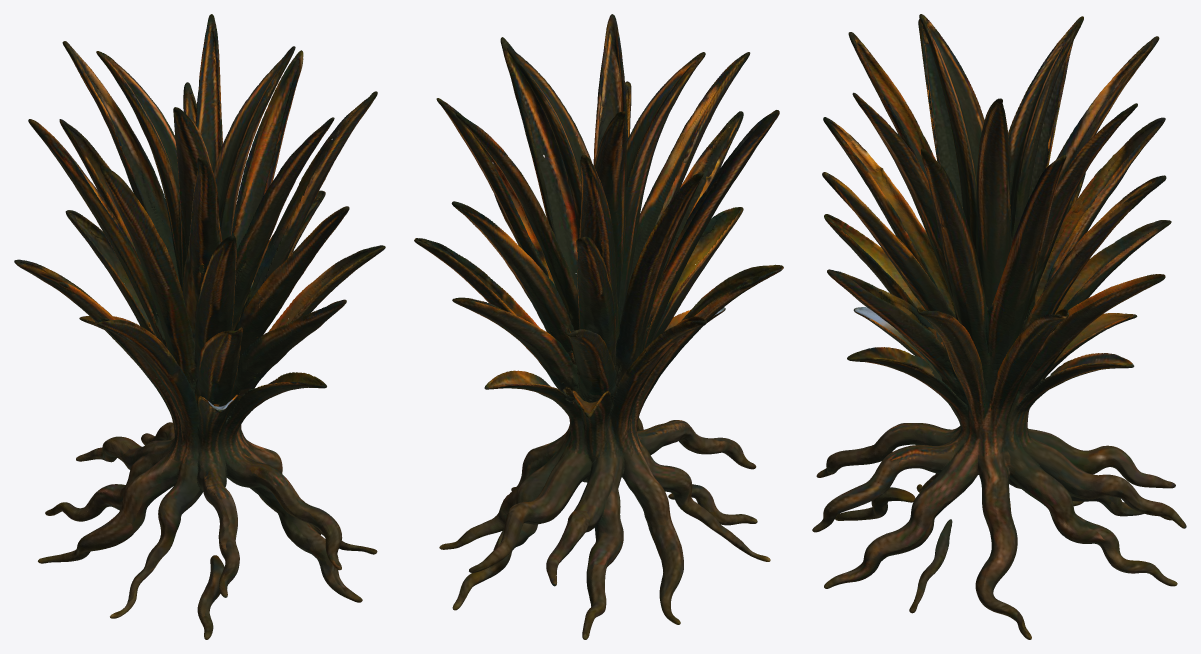
The model's file is Bladegrass.glb.
3 renders of one model, left to right at view 1: azimuth 30°, elevation 25°; view 2: azimuth 150°, elevation 25°; view 3: azimuth 270°, elevation 25°, orthographic. The views are drawn at different scales.
Parts seen in each view (by area): view 1: tripo_node_b8a2a6fa-74b0-4af2-8e38-3dee3e770835; view 2: tripo_node_b8a2a6fa-74b0-4af2-8e38-3dee3e770835; view 3: tripo_node_b8a2a6fa-74b0-4af2-8e38-3dee3e770835.
Part boxes in pixels (x1,y1,x2,y2): tripo_node_b8a2a6fa-74b0-4af2-8e38-3dee3e770835: (14,14,385,639); tripo_node_b8a2a6fa-74b0-4af2-8e38-3dee3e770835: (414,14,783,639); tripo_node_b8a2a6fa-74b0-4af2-8e38-3dee3e770835: (812,14,1186,639).
Bounding box in the file's own units: 0.6179 × 1 × 0.6503.
1 material, 1 textured.
